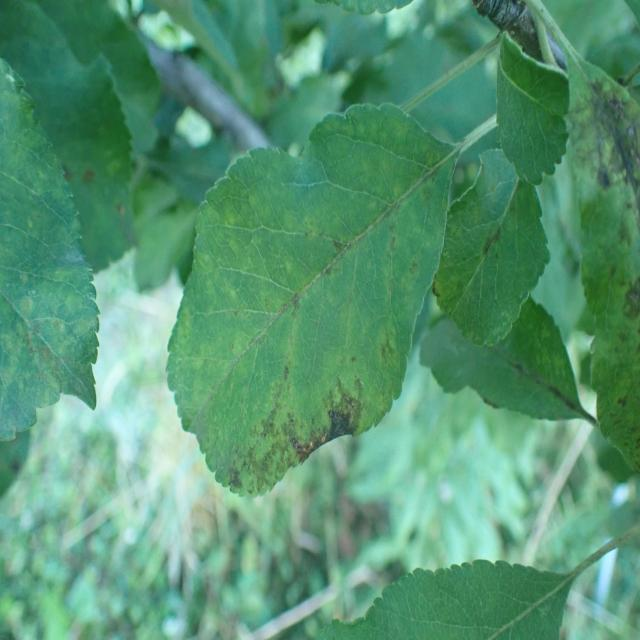scab: (209, 158, 438, 506), (574, 60, 640, 503), (3, 230, 78, 416), (472, 319, 576, 432), (472, 170, 540, 304)
